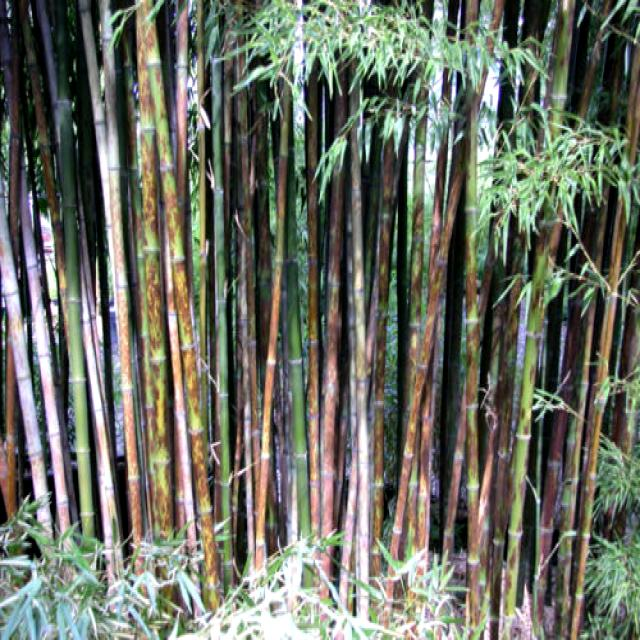Running: (8, 1, 640, 640)
